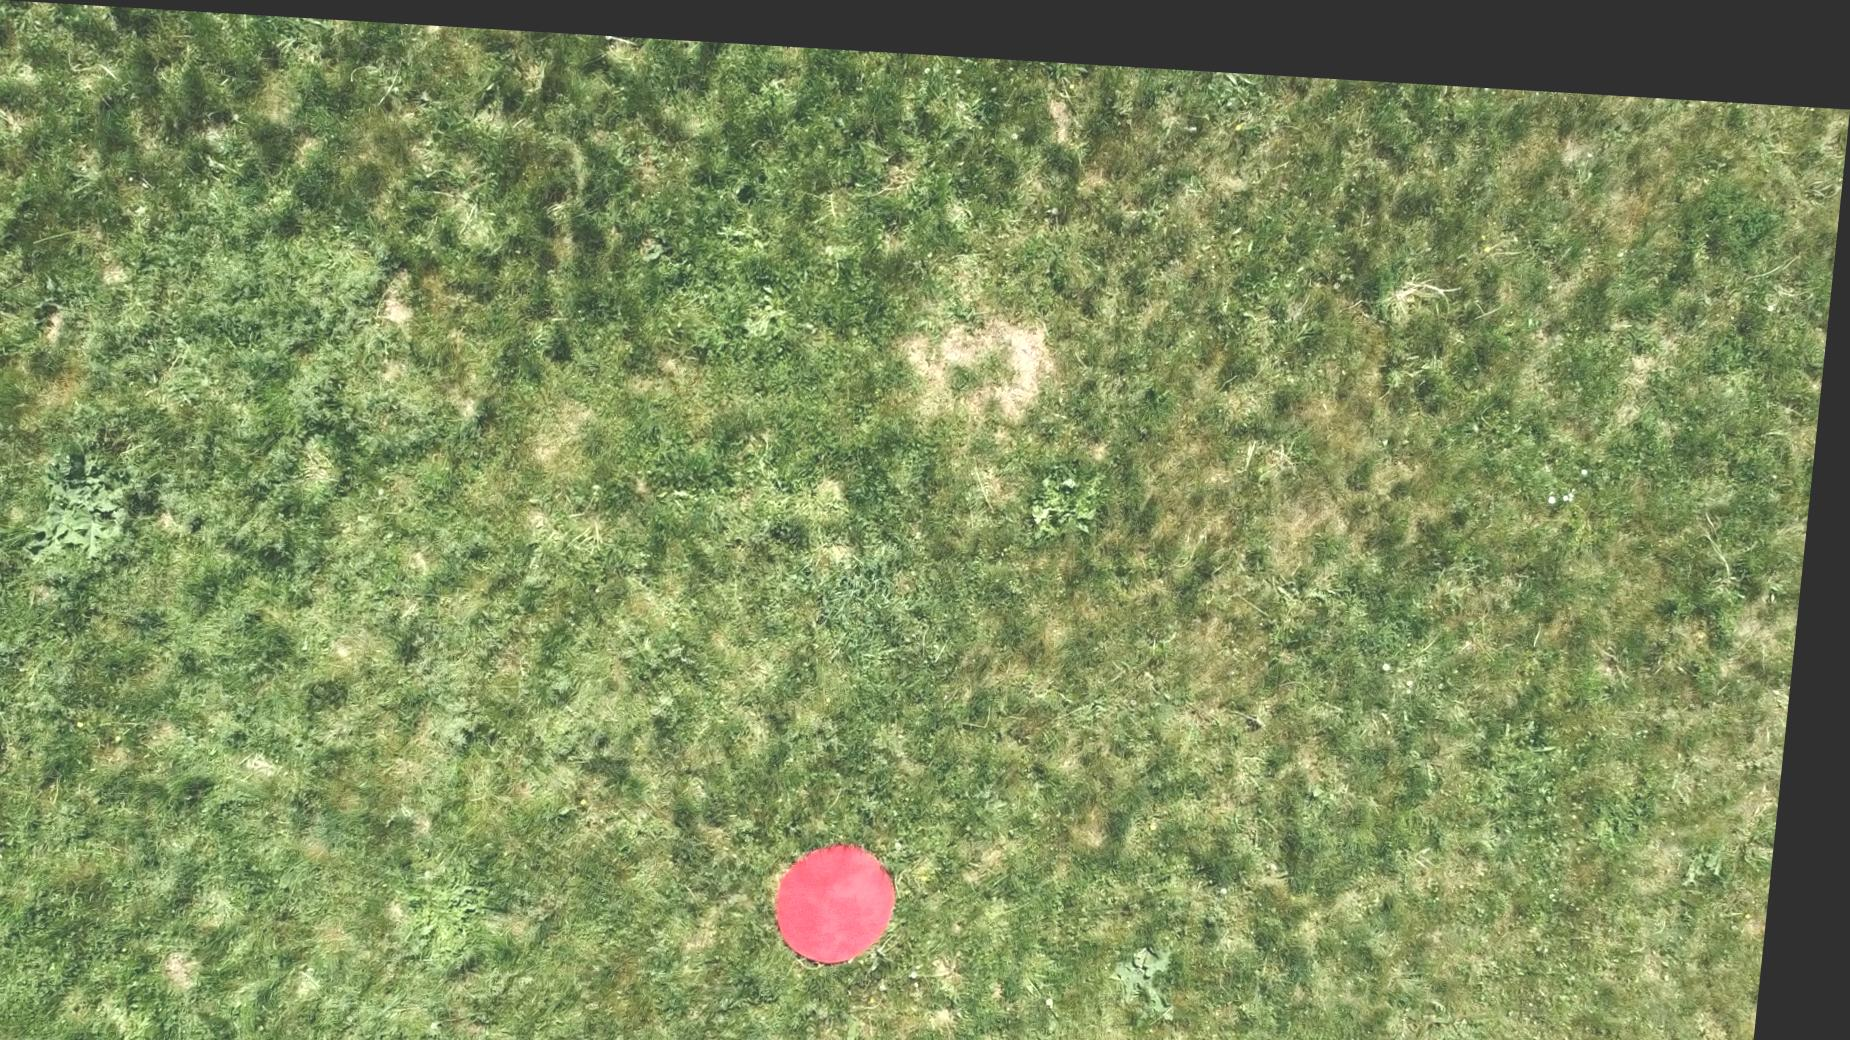Red: (780, 827, 921, 960)
